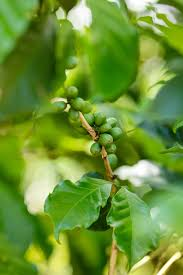grapes: (66, 79, 136, 182)
